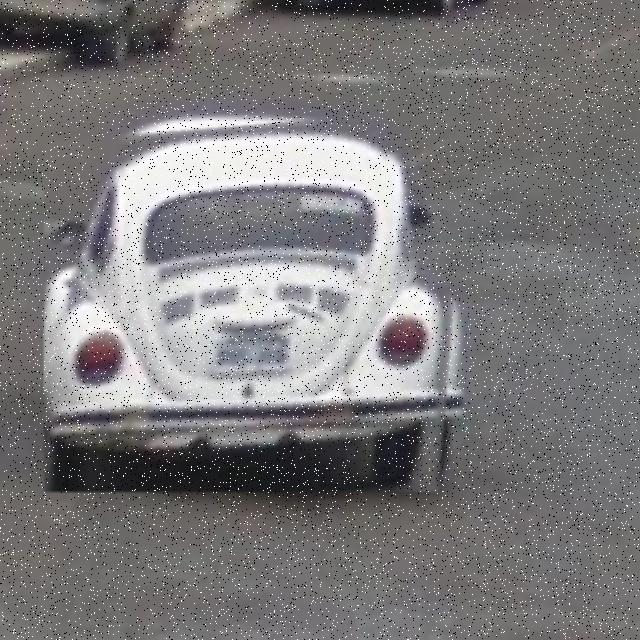car: (45, 108, 471, 493)
